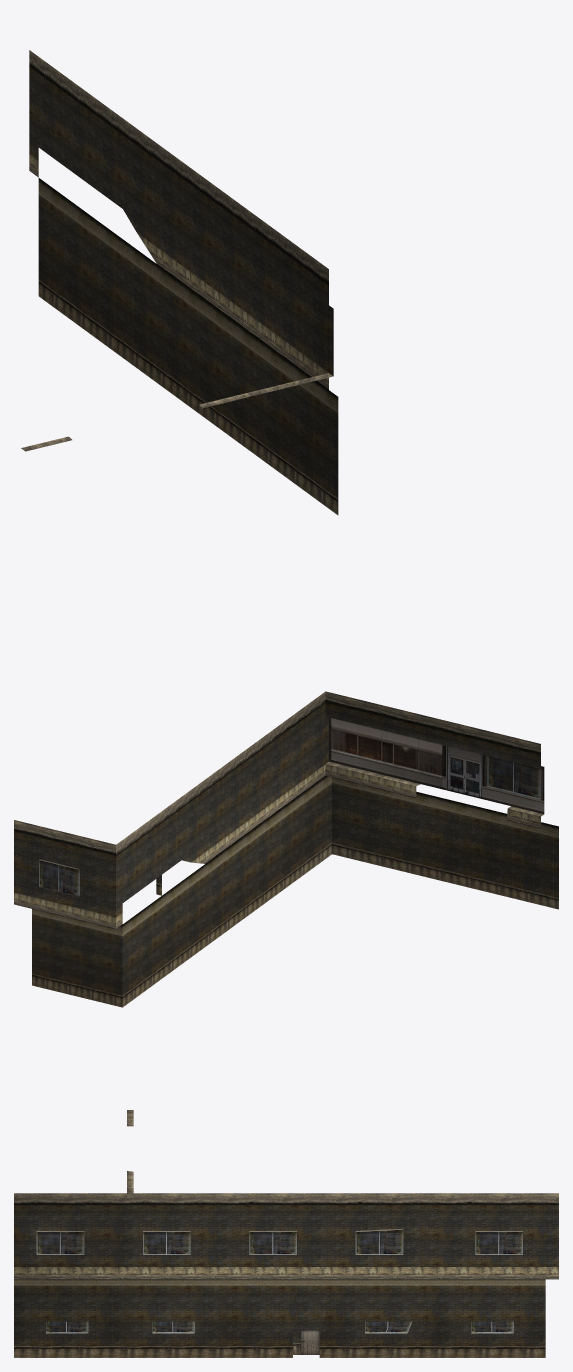
Rendered from M10_Z01_01_ShopsA.glb.
3 renders of one model, top to bottom at view 1: azimuth 30°, elevation 25°; view 2: azimuth 150°, elevation 25°; view 3: azimuth 270°, elevation 25°, orthographic. The views are drawn at different scales.
Parts seen in each view (by area): view 1: M10_Z01_01_SHOPSA; view 2: M10_Z01_01_SHOPSA; view 3: M10_Z01_01_SHOPSA.
Boxes of the visible parts, bbox=[...] form: M10_Z01_01_SHOPSA: bbox=[21, 50, 338, 515]; M10_Z01_01_SHOPSA: bbox=[14, 691, 558, 1007]; M10_Z01_01_SHOPSA: bbox=[14, 1110, 558, 1357].
Bounding box in the file's own units: 29 × 14.12 × 41.
Materials: 6 (6 with a texture image).
